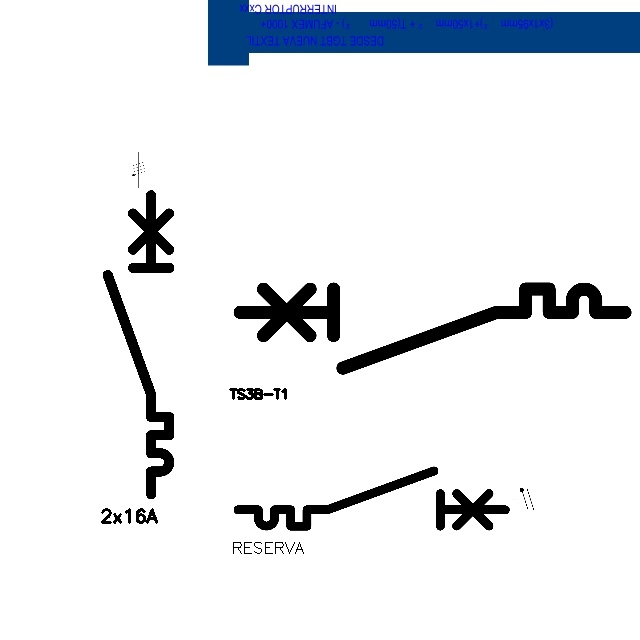interruptor_termomagnetico: (230, 279, 635, 378), (100, 187, 177, 502), (231, 464, 512, 533)
